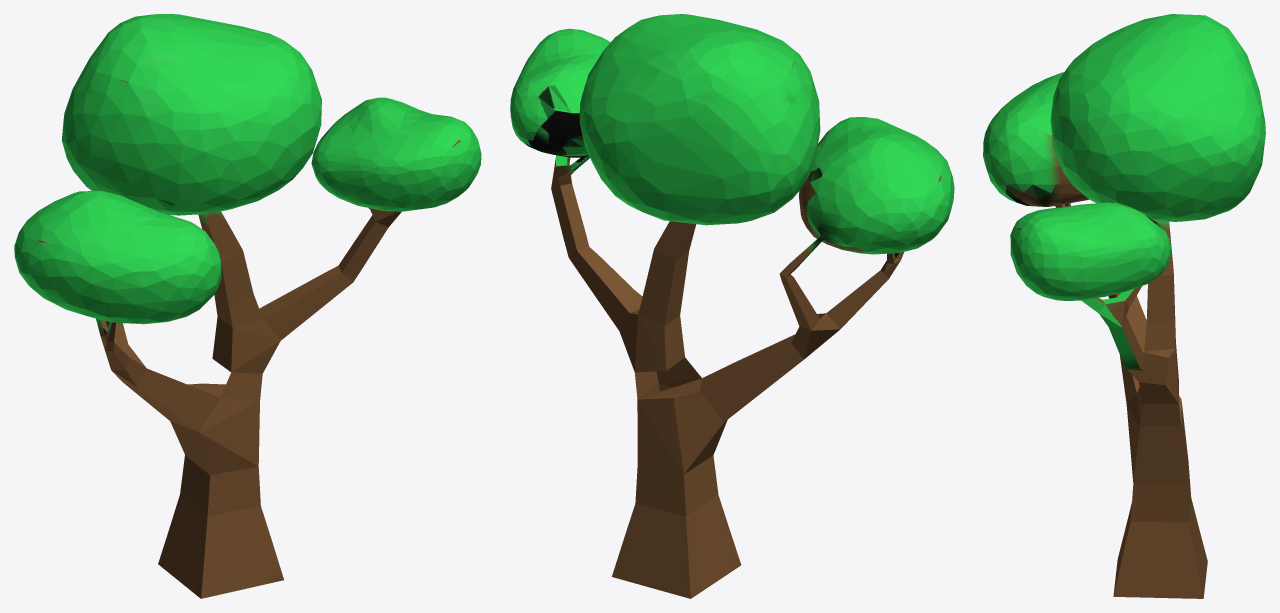
Rendered from OakTree_LP_TexPaint.glb.
3 renders of one model, left to right at view 1: azimuth 30°, elevation 25°; view 2: azimuth 150°, elevation 25°; view 3: azimuth 270°, elevation 25°, orthographic. The views are drawn at different scales.
Visible parts, largest first — view 1: OakTree; view 2: OakTree; view 3: OakTree.
Boxes of the visible parts, x1,y1,x2,y2 form: OakTree: [14, 14, 481, 598]; OakTree: [510, 14, 954, 598]; OakTree: [983, 14, 1265, 598].
Size of the model in its own units: 0.6934 by 0.8494 by 0.4089.
1 material, 1 textured.
